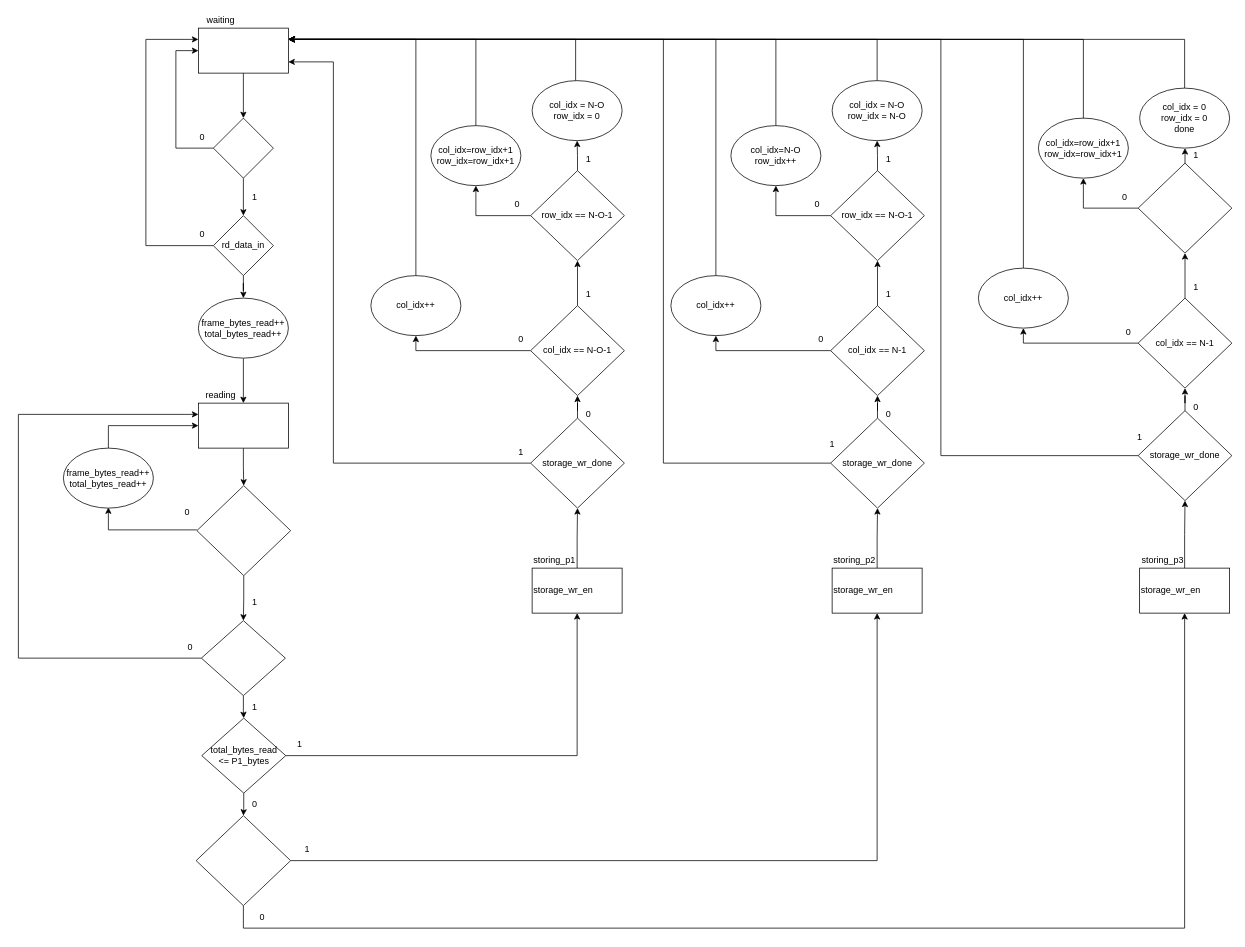
Some shapes in this 1245 by 947 pixel diagram are drawn without their labels. The shapes that lost their labels are listed below. From the top down, each one's centre as x and y in pixels, then its label:
point 243,50: rdy_data_in
point 243,147: en
point 1184,207: row_idx == N-1
point 243,530: frame_bytes_read == 32
point 243,658: decode_data_rdy
point 243,860: total_bytes_read <= P1_bytes + P2_bytes
